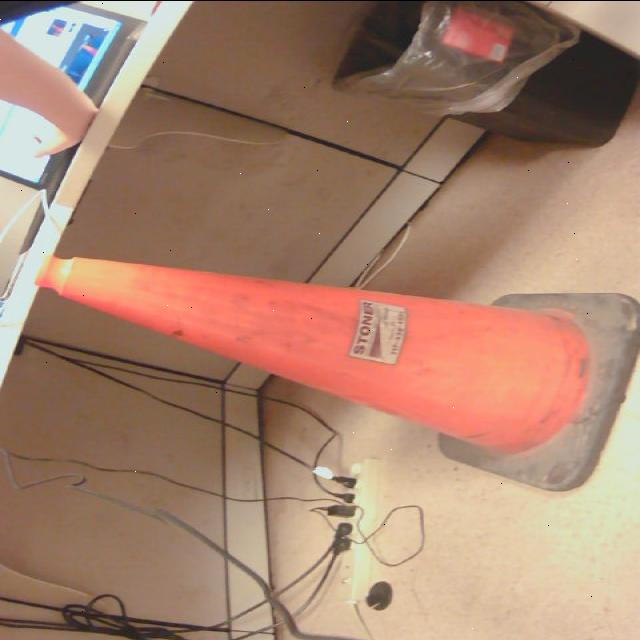traffic cone: (42, 254, 640, 491)
